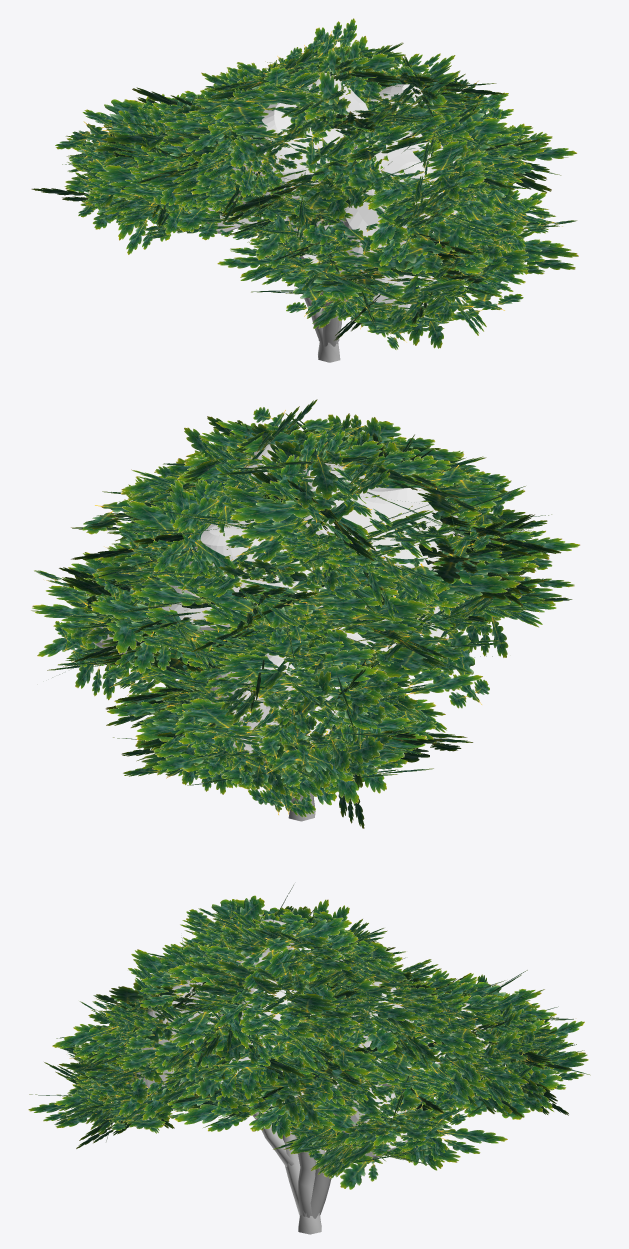
Rendered from 2дуб .fbx.
3 views of the same model, one above another, from view 1: azimuth 30°, elevation 25°; view 2: azimuth 150°, elevation 25°; view 3: azimuth 270°, elevation 25° (orthographic). The views are drawn at different scales.
Parts seen in each view (by area): view 1: Sphere|Plane|Dupli|, Sphere, tree; view 2: Sphere|Plane|Dupli|, Sphere; view 3: Sphere|Plane|Dupli|, Sphere, tree.
Part boxes in pixels (<box>): Sphere|Plane|Dupli|: <box>31,18,578,350</box>; Sphere: <box>137,64,476,316</box>; tree: <box>303,291,341,362</box>; Sphere|Plane|Dupli|: <box>31,399,580,828</box>; Sphere: <box>87,444,469,762</box>; Sphere|Plane|Dupli|: <box>28,885,590,1189</box>; Sphere: <box>132,919,505,1158</box>; tree: <box>252,1112,331,1234</box>.
Bounding box in the file's own units: 2714 × 1883 × 3370.
